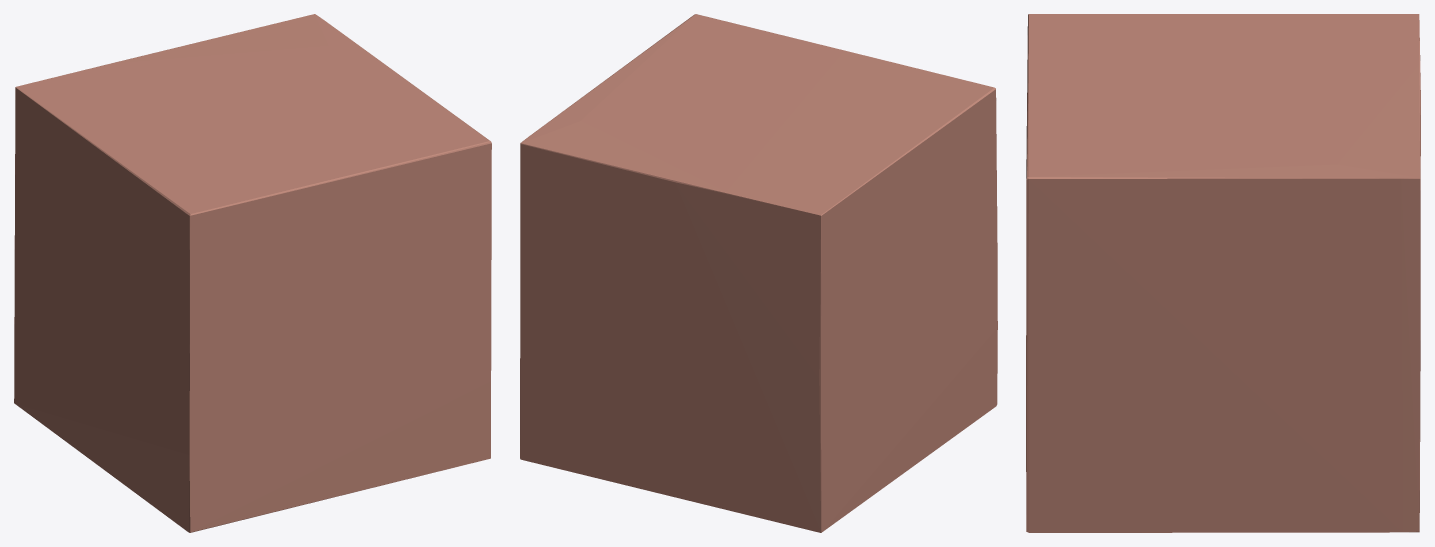
File: box_corrugated_white_a09.glb
3 renders of one model, left to right at view 1: azimuth 30°, elevation 25°; view 2: azimuth 150°, elevation 25°; view 3: azimuth 270°, elevation 25°, orthographic. The views are drawn at different scales.
Parts seen in each view (by area): view 1: geometry_0; view 2: geometry_0; view 3: geometry_0.
Part boxes in pixels (x1=…): geometry_0: x1=14, y1=14, x2=491, y2=532; geometry_0: x1=520, y1=14, x2=997, y2=532; geometry_0: x1=1026, y1=14, x2=1420, y2=532.
Bounding box in the file's own units: 0.4751 × 0.4779 × 0.4796.
